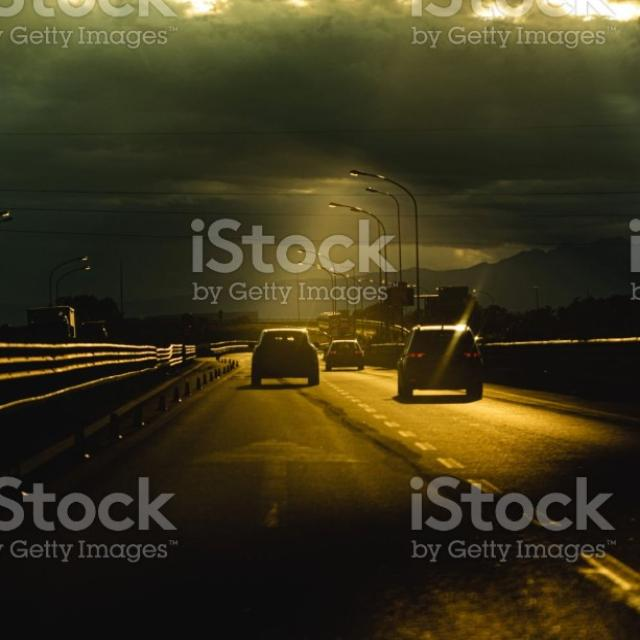car: (394, 323, 486, 404), (250, 326, 320, 389), (323, 338, 367, 372)
